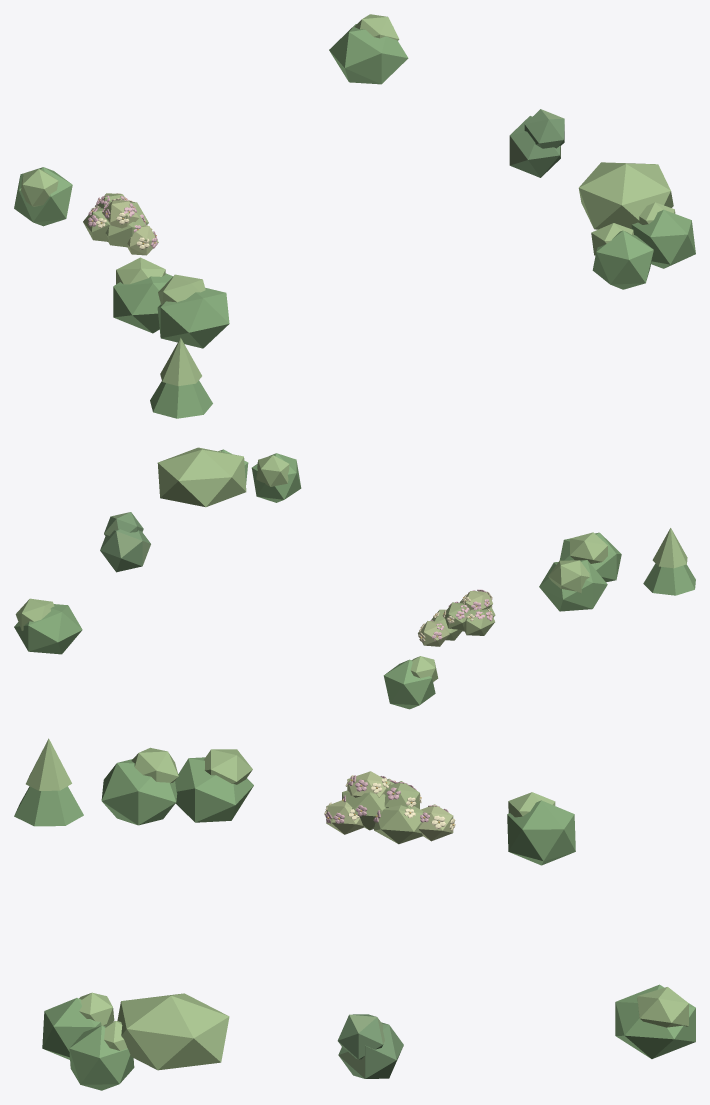
The model's file is longgrass_meadow_wind_canopies.fbx.
3 views of the same model, one above another, from view 1: azimuth 30°, elevation 25°; view 2: azimuth 150°, elevation 25°; view 3: azimuth 270°, elevation 25° (orthographic). The views are drawn at different scales.
Parts seen in each view (by area): view 1: chunk_longgrass_meadow__tree_canopy_11, chunk_longgrass_meadow__tree_canopy_06, chunk_longgrass_meadow__tree_canopy_09, chunk_longgrass_meadow__detail_scatter_tree_01_canopy, chunk_longgrass_meadow__detail_scatter_flowering_tree_canopy (×4), chunk_longgrass_meadow__tree_canopy_14, chunk_longgrass_meadow__tree_canopy_15, chunk_longgrass_meadow__tree_canopy_04, chunk_longgrass_meadow__tree_canopy_01, chunk_longgrass_meadow__tree_canopy_08, chunk_longgrass_meadow__tree_canopy_02, chunk_longgrass_meadow__tree_canopy_07 (+3 smaller); view 2: chunk_longgrass_meadow__tree_canopy_11, chunk_longgrass_meadow__detail_scatter_flowering_tree_canopy (×4), chunk_longgrass_meadow__detail_scatter_tree_01_canopy, chunk_longgrass_meadow__tree_canopy_09, chunk_longgrass_meadow__tree_canopy_04, chunk_longgrass_meadow__tree_canopy_08, chunk_longgrass_meadow__tree_canopy_01, chunk_longgrass_meadow__tree_canopy_14, chunk_longgrass_meadow__tree_canopy_03, chunk_longgrass_meadow__tree_canopy_05, chunk_longgrass_meadow__tree_canopy_06, chunk_longgrass_meadow__tree_canopy_12 (+3 smaller); view 3: chunk_longgrass_meadow__tree_canopy_11, chunk_longgrass_meadow__detail_scatter_flowering_tree_canopy (×6), chunk_longgrass_meadow__tree_canopy_08, chunk_longgrass_meadow__tree_canopy_06, chunk_longgrass_meadow__tree_canopy_04, chunk_longgrass_meadow__detail_scatter_tree_01_canopy, chunk_longgrass_meadow__tree_canopy_09, chunk_longgrass_meadow__tree_canopy_15, chunk_longgrass_meadow__tree_canopy_01, chunk_longgrass_meadow__tree_canopy_14, chunk_longgrass_meadow__tree_canopy_10, chunk_longgrass_meadow__tree_canopy_02 (+4 smaller).
Boxes of the visible parts, x1,y1,x2,y2 form: chunk_longgrass_meadow__tree_canopy_11: (578,162,673,229); chunk_longgrass_meadow__tree_canopy_06: (157,287,229,348); chunk_longgrass_meadow__tree_canopy_09: (329,24,408,84); chunk_longgrass_meadow__detail_scatter_tree_01_canopy: (509,109,564,177); chunk_longgrass_meadow__detail_scatter_flowering_tree_canopy (×4): (83,198,158,255); chunk_longgrass_meadow__tree_canopy_14: (592,230,653,289); chunk_longgrass_meadow__tree_canopy_15: (631,209,695,268); chunk_longgrass_meadow__tree_canopy_04: (113,273,172,333); chunk_longgrass_meadow__tree_canopy_01: (150,380,212,418); chunk_longgrass_meadow__tree_canopy_08: (14,167,72,226); chunk_longgrass_meadow__tree_canopy_02: (160,338,201,386); chunk_longgrass_meadow__tree_canopy_07: (21,169,58,206); chunk_longgrass_meadow__tree_canopy_11: (157,447,246,507); chunk_longgrass_meadow__detail_scatter_flowering_tree_canopy (×4): (418,589,494,646); chunk_longgrass_meadow__detail_scatter_tree_01_canopy: (100,512,150,572); chunk_longgrass_meadow__tree_canopy_09: (14,604,82,654); chunk_longgrass_meadow__tree_canopy_04: (539,560,607,611); chunk_longgrass_meadow__tree_canopy_08: (383,659,435,709); chunk_longgrass_meadow__tree_canopy_01: (643,563,695,595); chunk_longgrass_meadow__tree_canopy_14: (251,453,301,502); chunk_longgrass_meadow__tree_canopy_03: (548,560,589,593); chunk_longgrass_meadow__tree_canopy_05: (570,532,607,563); chunk_longgrass_meadow__tree_canopy_06: (559,532,621,582); chunk_longgrass_meadow__tree_canopy_12: (256,455,289,486); chunk_longgrass_meadow__tree_canopy_11: (117,993,229,1070); chunk_longgrass_meadow__detail_scatter_flowering_tree_canopy (×6): (324,771,455,844); chunk_longgrass_meadow__tree_canopy_08: (507,800,575,865); chunk_longgrass_meadow__tree_canopy_06: (101,759,177,825); chunk_longgrass_meadow__tree_canopy_04: (175,757,253,822); chunk_longgrass_meadow__detail_scatter_tree_01_canopy: (337,1014,403,1078); chunk_longgrass_meadow__tree_canopy_09: (615,984,695,1058); chunk_longgrass_meadow__tree_canopy_15: (69,1025,134,1090); chunk_longgrass_meadow__tree_canopy_01: (14,786,83,826); chunk_longgrass_meadow__tree_canopy_14: (42,998,101,1059); chunk_longgrass_meadow__tree_canopy_10: (637,987,688,1027); chunk_longgrass_meadow__tree_canopy_02: (26,738,71,790).
Size of the model in its own units: 182 by 25.87 by 170.
